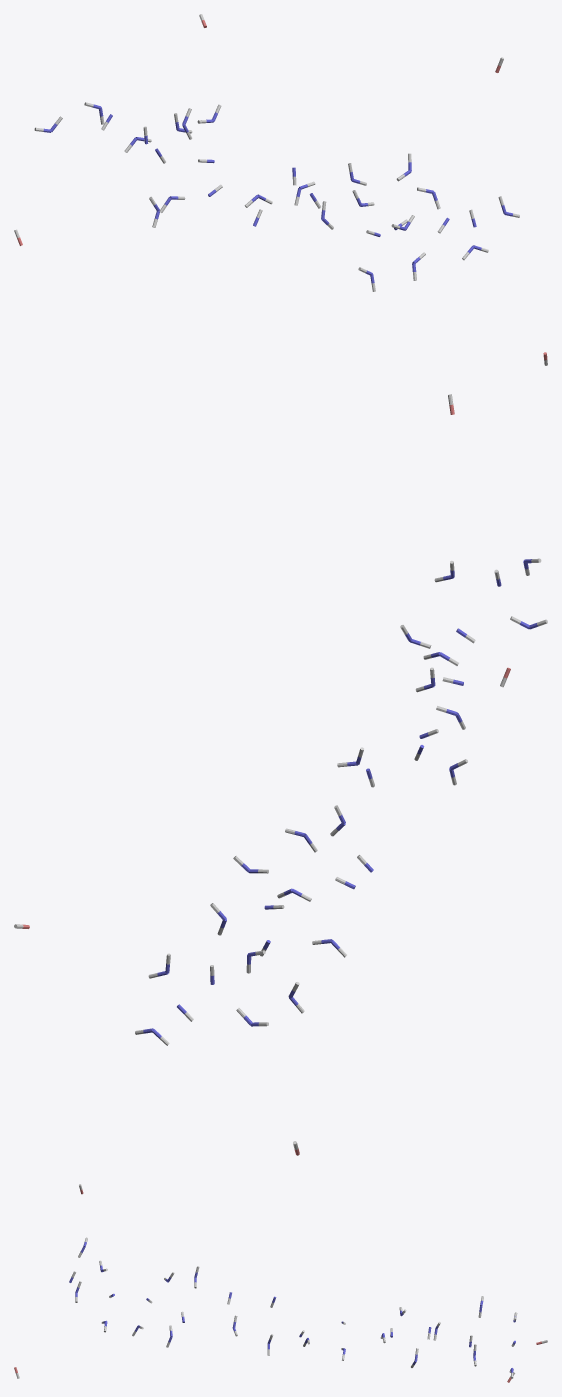
The model's file is 1bna__sticks__default__H.glb.
3 views of the same model, one above another, from view 1: azimuth 30°, elevation 25°; view 2: azimuth 150°, elevation 25°; view 3: azimuth 270°, elevation 25° (orthographic). The views are drawn at different scales.
Parts seen in each view (by area): view 1: Renderer Node; view 2: Renderer Node; view 3: Renderer Node.
Boxes of the visible parts, left/top/right/bottom form: Renderer Node: left=14, top=14, right=547, bottom=365; Renderer Node: left=14, top=394, right=547, bottom=1155; Renderer Node: left=14, top=1184, right=547, bottom=1382.
Size of the model in its own units: 14.05 by 23.3 by 43.49.
